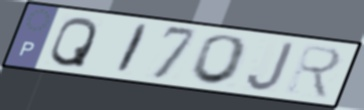7: (152, 23, 198, 82)
I: (112, 22, 153, 76)
J: (244, 40, 297, 93)
O: (187, 33, 251, 87)
Q: (47, 16, 100, 70)
R: (283, 42, 344, 102)
